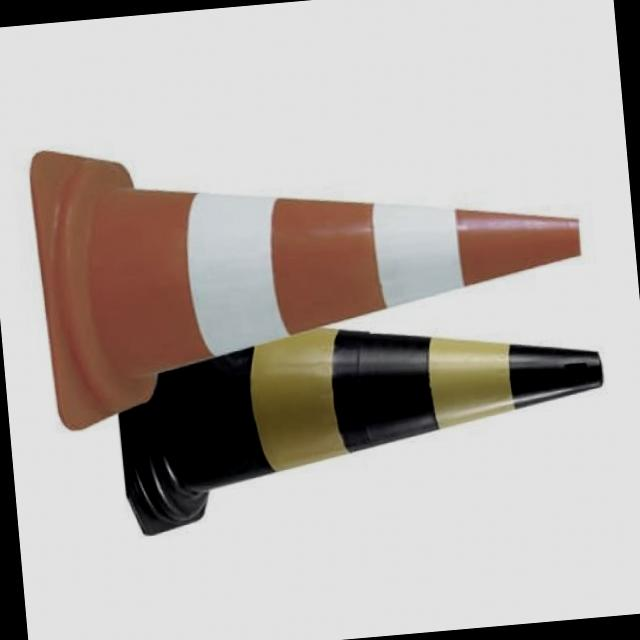cone: (29, 102, 596, 390)
